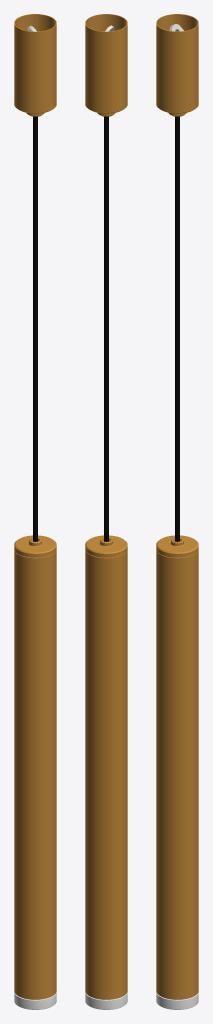
Rendered from arevik_eyelit.glb.
3 renders of one model, left to right at view 1: azimuth 30°, elevation 25°; view 2: azimuth 150°, elevation 25°; view 3: azimuth 330°, elevation 25°, orthographic.
Visible parts, largest first — view 1: Arevik Eyelit Ver4 Assem - Main brass pipe - 12PD2001009-02-, Arevik Eyelit Ver4 Assem - Install pipe 12PD2001009-10-04-1, Arevik Eyelit Ver4 Assem - Wire - 12PD2001009-1, Arevik Eyelit Ver4 Assem - Pipe Cap - 12PD2001009-07-04-1, Arevik Eyelit Ver4 Assem - Plaxy Diffuser - 12PD2001009-01-0, Arevik Eyelit Ver4 Assem - Install cap - 12PD2001009-09-04-1; view 2: Arevik Eyelit Ver4 Assem - Main brass pipe - 12PD2001009-02-, Arevik Eyelit Ver4 Assem - Install pipe 12PD2001009-10-04-1, Arevik Eyelit Ver4 Assem - Wire - 12PD2001009-1, Arevik Eyelit Ver4 Assem - Pipe Cap - 12PD2001009-07-04-1, Arevik Eyelit Ver4 Assem - Plaxy Diffuser - 12PD2001009-01-0, Arevik Eyelit Ver4 Assem - Install cap - 12PD2001009-09-04-1; view 3: Arevik Eyelit Ver4 Assem - Main brass pipe - 12PD2001009-02-, Arevik Eyelit Ver4 Assem - Install pipe 12PD2001009-10-04-1, Arevik Eyelit Ver4 Assem - Wire - 12PD2001009-1, Arevik Eyelit Ver4 Assem - Pipe Cap - 12PD2001009-07-04-1, Arevik Eyelit Ver4 Assem - Plaxy Diffuser - 12PD2001009-01-0, Arevik Eyelit Ver4 Assem - Install cap - 12PD2001009-09-04-1.
Boxes of the visible parts, x1,y1,x2,y2 form: Arevik Eyelit Ver4 Assem - Main brass pipe - 12PD2001009-02-: (14, 550, 56, 999); Arevik Eyelit Ver4 Assem - Install pipe 12PD2001009-10-04-1: (14, 14, 56, 109); Arevik Eyelit Ver4 Assem - Wire - 12PD2001009-1: (33, 116, 37, 541); Arevik Eyelit Ver4 Assem - Pipe Cap - 12PD2001009-07-04-1: (14, 535, 56, 557); Arevik Eyelit Ver4 Assem - Plaxy Diffuser - 12PD2001009-01-0: (14, 992, 56, 1009); Arevik Eyelit Ver4 Assem - Install cap - 12PD2001009-09-04-1: (14, 102, 56, 113); Arevik Eyelit Ver4 Assem - Main brass pipe - 12PD2001009-02-: (85, 550, 127, 999); Arevik Eyelit Ver4 Assem - Install pipe 12PD2001009-10-04-1: (85, 14, 127, 109); Arevik Eyelit Ver4 Assem - Wire - 12PD2001009-1: (104, 116, 108, 541); Arevik Eyelit Ver4 Assem - Pipe Cap - 12PD2001009-07-04-1: (85, 535, 127, 557); Arevik Eyelit Ver4 Assem - Plaxy Diffuser - 12PD2001009-01-0: (85, 992, 127, 1009); Arevik Eyelit Ver4 Assem - Install cap - 12PD2001009-09-04-1: (85, 102, 127, 113); Arevik Eyelit Ver4 Assem - Main brass pipe - 12PD2001009-02-: (156, 550, 198, 999); Arevik Eyelit Ver4 Assem - Install pipe 12PD2001009-10-04-1: (156, 14, 198, 109); Arevik Eyelit Ver4 Assem - Wire - 12PD2001009-1: (175, 116, 179, 541); Arevik Eyelit Ver4 Assem - Pipe Cap - 12PD2001009-07-04-1: (156, 535, 198, 557); Arevik Eyelit Ver4 Assem - Plaxy Diffuser - 12PD2001009-01-0: (156, 992, 198, 1009); Arevik Eyelit Ver4 Assem - Install cap - 12PD2001009-09-04-1: (156, 102, 198, 113).
Size of the model in its own units: 0.2482 by 6.28 by 0.2482.
